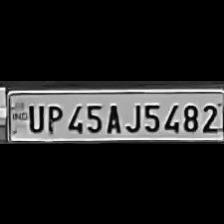2: (200, 100, 218, 132)
4: (160, 100, 180, 132), (64, 102, 84, 132)
5: (83, 100, 103, 132), (140, 100, 158, 132)
8: (181, 102, 199, 132)
A: (102, 100, 122, 134)
J: (123, 100, 141, 132)
P: (44, 101, 62, 133)
U: (25, 102, 43, 132)
